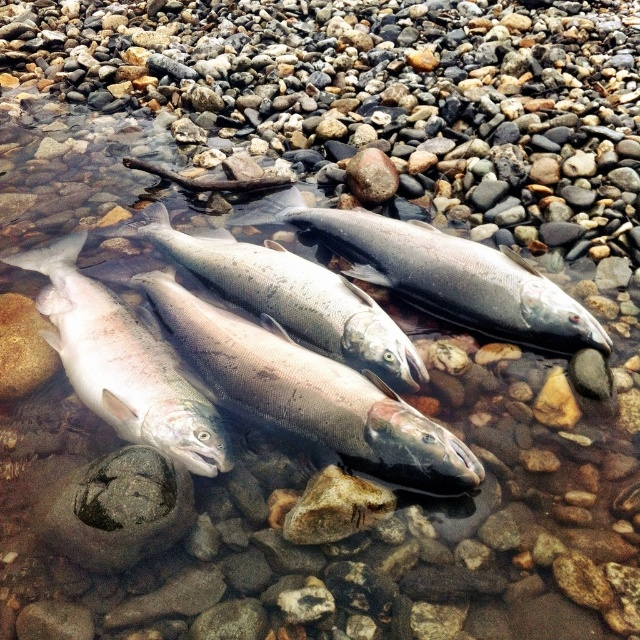Fish: (86, 250, 487, 499), (236, 178, 617, 363), (84, 198, 430, 401), (5, 222, 233, 480)
